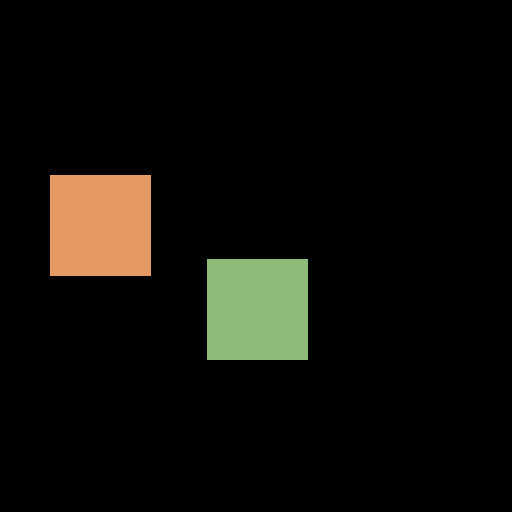square: (207, 259, 307, 359), (50, 175, 150, 275)
